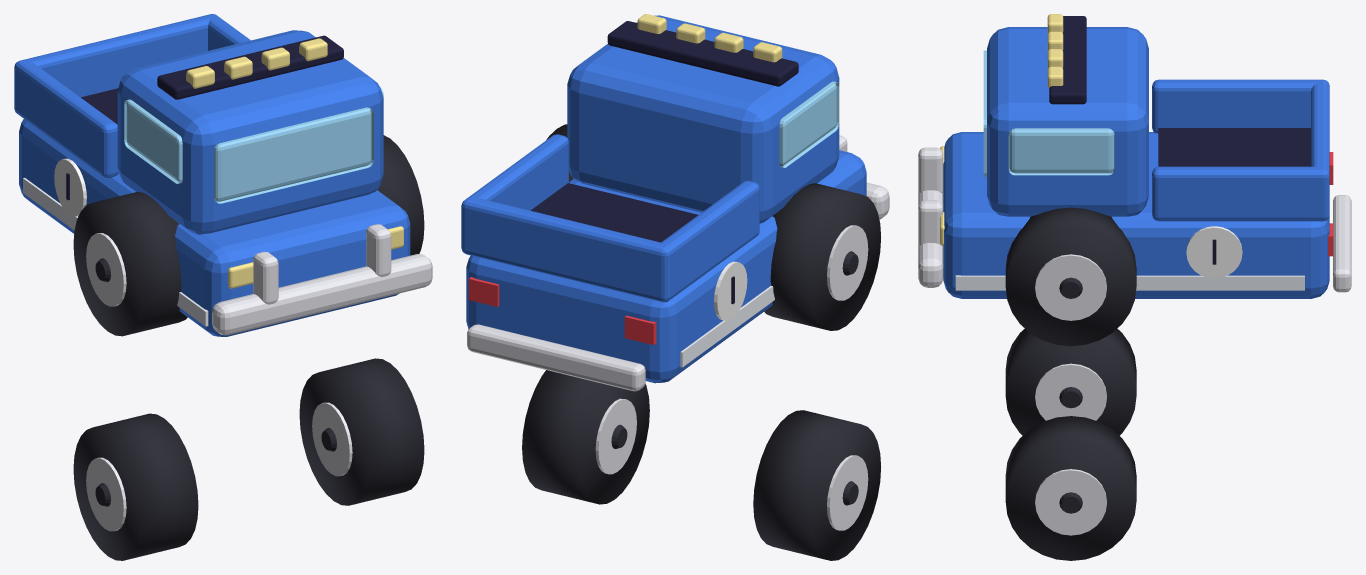
File: Car_Rhino.fbx
3 views of the same model, side by side, from view 1: azimuth 30°, elevation 25°; view 2: azimuth 150°, elevation 25°; view 3: azimuth 270°, elevation 25° (orthographic). The views are drawn at different scales.
Parts seen in each view (by area): view 1: Car_Rhino, Wheel_FL, Wheel_FR, Wheel_RL, Wheel_RR; view 2: Car_Rhino, Wheel_FL, Wheel_FR, Wheel_RL; view 3: Car_Rhino, Wheel_FR, Wheel_RR, Wheel_FL.
Part boxes in pixels (x1,y1,x2,y2): Car_Rhino: (14,14,432,336); Wheel_FL: (73,413,198,560); Wheel_FR: (299,358,424,505); Wheel_RL: (73,192,187,336); Wheel_RR: (377,135,424,255); Car_Rhino: (461,14,889,391); Wheel_FL: (753,410,880,560); Wheel_FR: (522,370,649,504); Wheel_RL: (764,183,880,330); Car_Rhino: (918,14,1351,298); Wheel_FR: (1005,416,1136,560); Wheel_RR: (1005,207,1136,346); Wheel_FL: (1005,328,1136,435).
Bounding box in the file's own units: 1.05 × 1.6 × 1.39.
